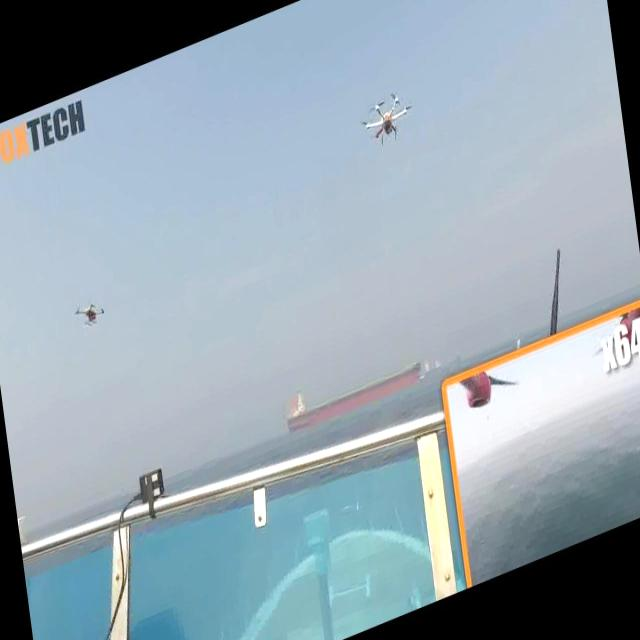drone: (355, 72, 412, 162), (66, 288, 112, 335)
